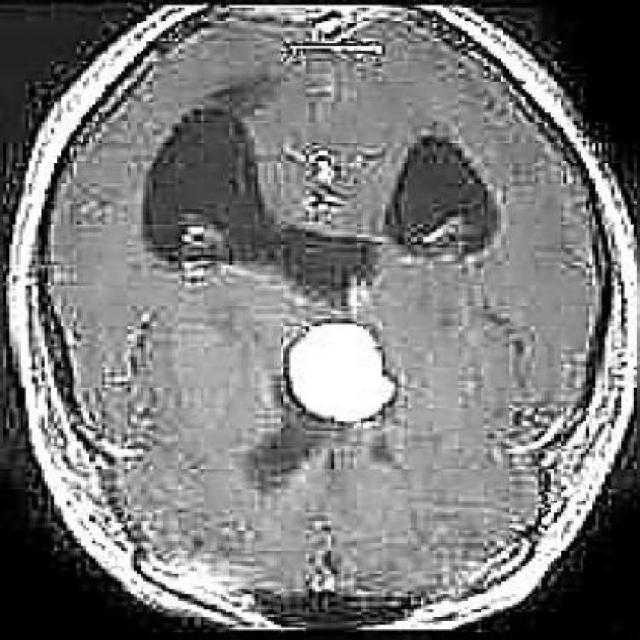Brain-Tumor: (270, 307, 416, 447)
